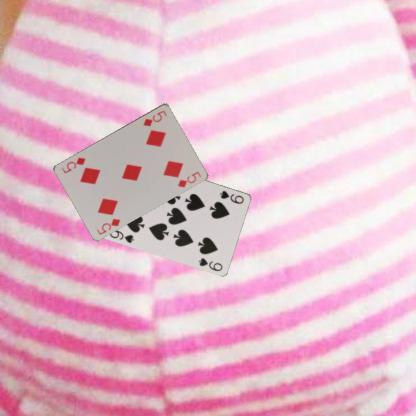5d: (141, 107, 168, 128), (95, 216, 122, 236)
9s: (217, 188, 246, 205), (108, 227, 135, 244)
